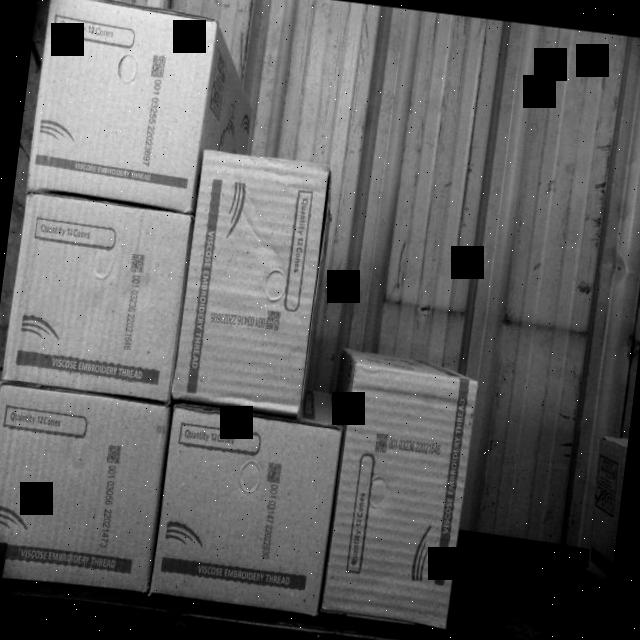box: (172, 149, 333, 413), (1, 189, 192, 404), (324, 368, 479, 628), (151, 406, 341, 614), (28, 0, 215, 210), (0, 384, 170, 595)
